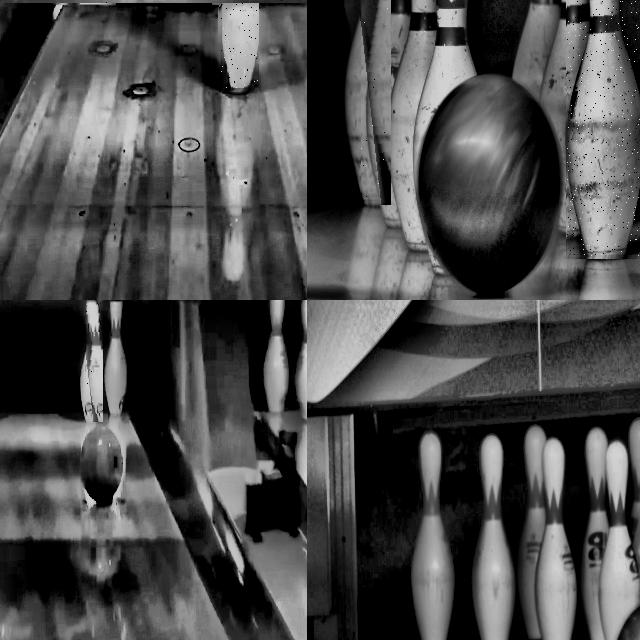bowling-ball: (417, 73, 560, 293), (80, 424, 124, 504)
bowling-pins: (567, 0, 640, 256), (413, 0, 476, 206), (387, 0, 436, 252), (540, 0, 588, 235), (366, 0, 410, 228), (472, 434, 515, 640), (535, 438, 577, 640), (412, 432, 452, 640), (599, 440, 640, 640), (578, 428, 608, 640), (517, 425, 545, 640), (362, 0, 391, 201), (512, 0, 560, 100), (221, 0, 258, 89), (266, 300, 289, 412), (104, 300, 126, 414), (86, 301, 103, 421), (628, 418, 640, 567), (298, 300, 307, 419)
